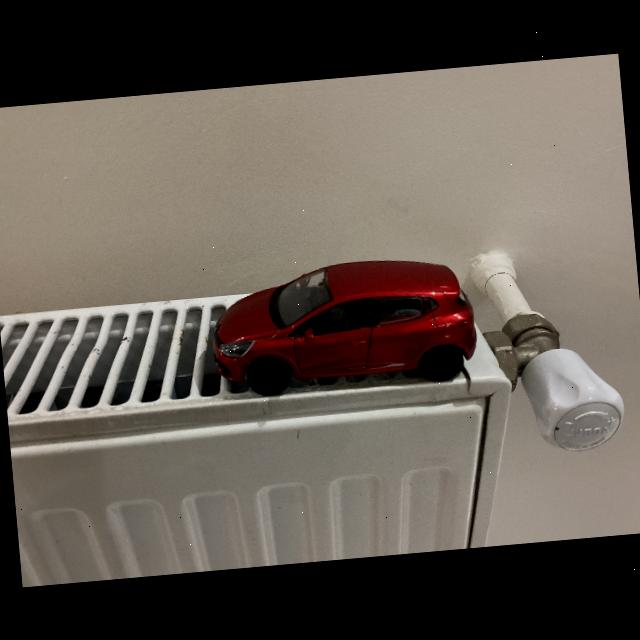Dogru_Jant: (424, 349, 461, 382), (252, 362, 286, 393)
